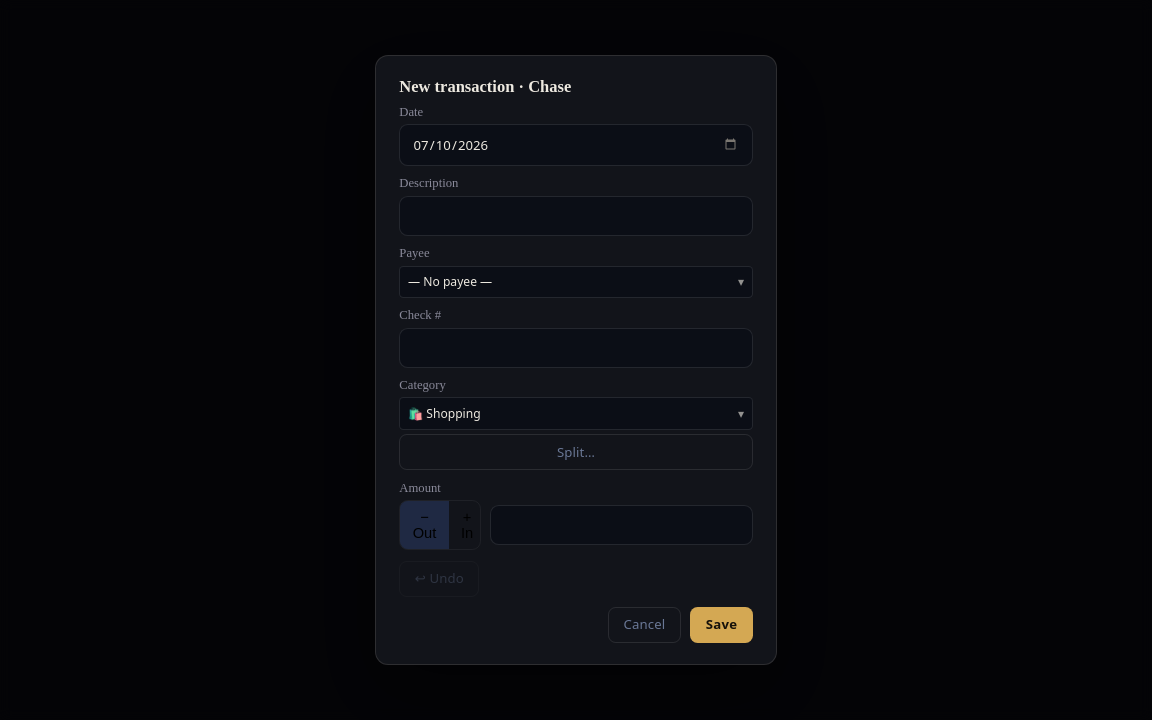
Scenario: TransactionEditor split wire-up › opening Split seeds a single starter line (user adds the rest)
Step 1. Type "100" into the number field named "amount" → (621, 525), box [490, 505, 753, 545]
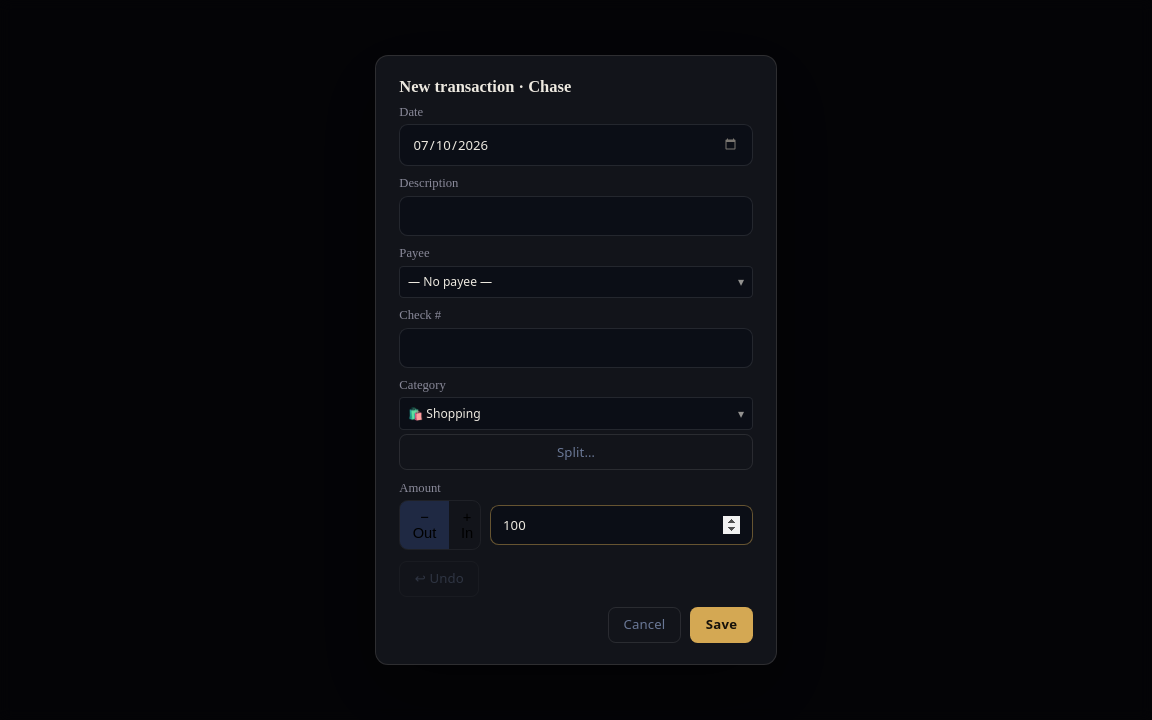
Step 2. Click the button "Split…" → click(576, 452), box [399, 434, 753, 470]
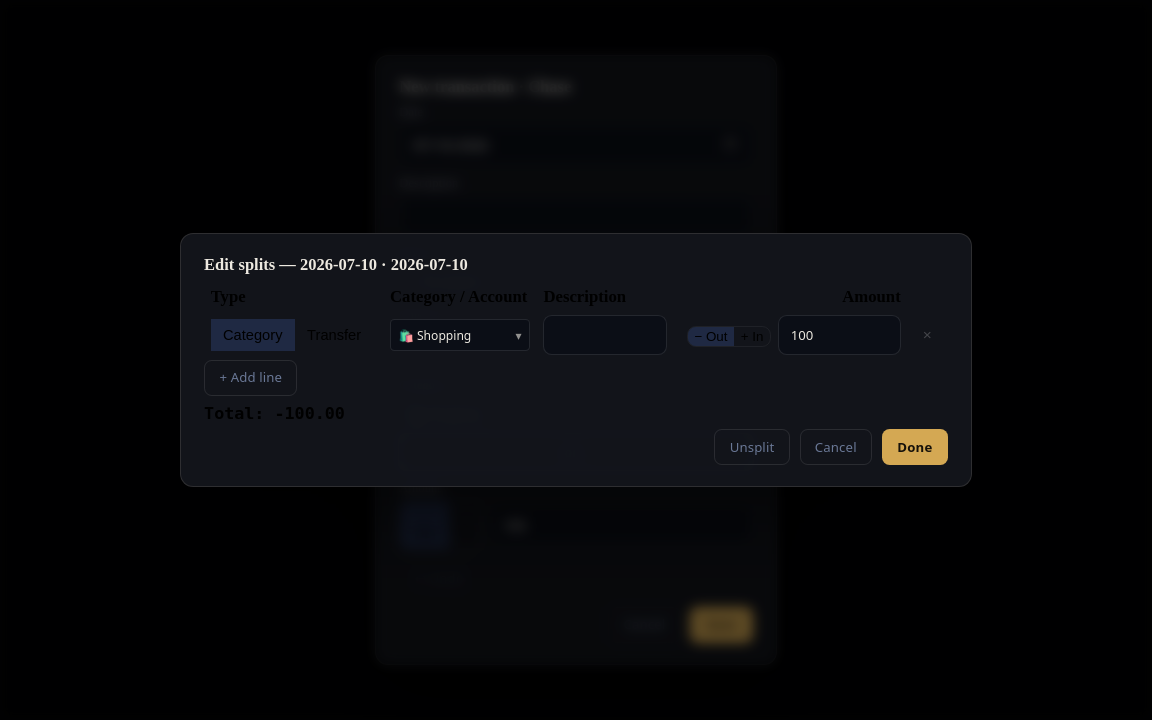
Now the number of number fields named "line amount" is 1, box [778, 316, 901, 355]
